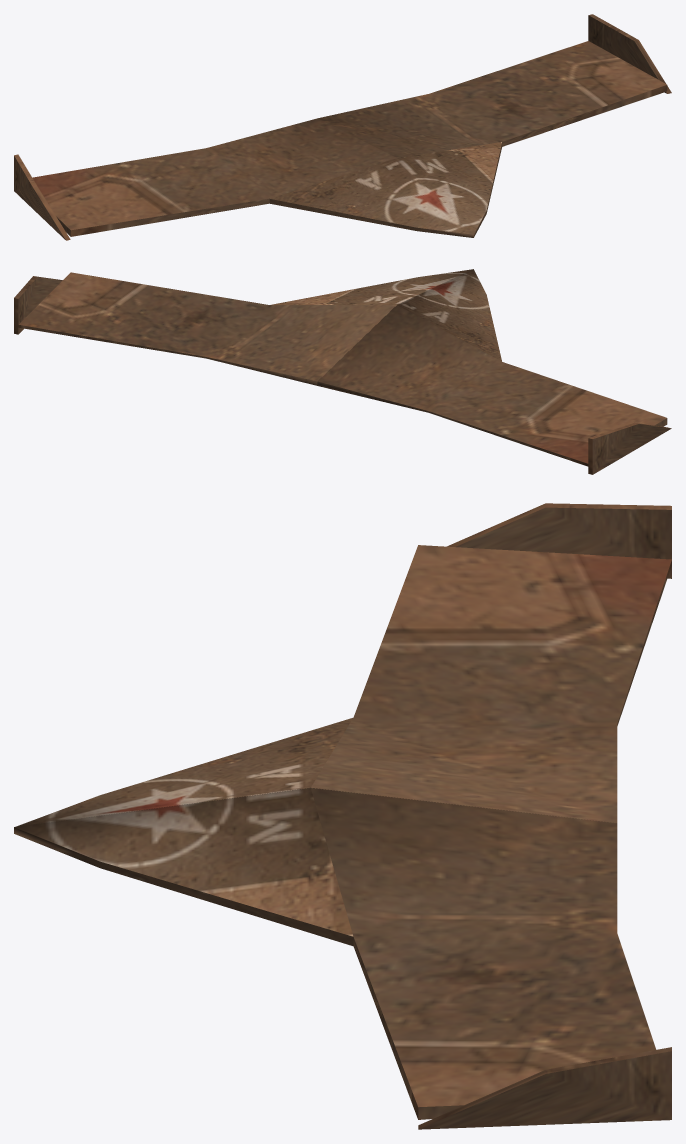
File: drone_kamikaze_01.dae
3 views of the same model, one above another, from view 1: azimuth 30°, elevation 25°; view 2: azimuth 150°, elevation 25°; view 3: azimuth 270°, elevation 25° (orthographic). The views are drawn at different scales.
Visible parts, largest first — view 1: drone_kamikaze; view 2: drone_kamikaze; view 3: drone_kamikaze.
Boxes of the visible parts, box(x1,y1,x2,y2) form: drone_kamikaze: box(14, 14, 671, 240); drone_kamikaze: box(14, 269, 671, 474); drone_kamikaze: box(14, 503, 671, 1129).
Size of the model in its own units: 2.98 by 1.45 by 0.2244.
